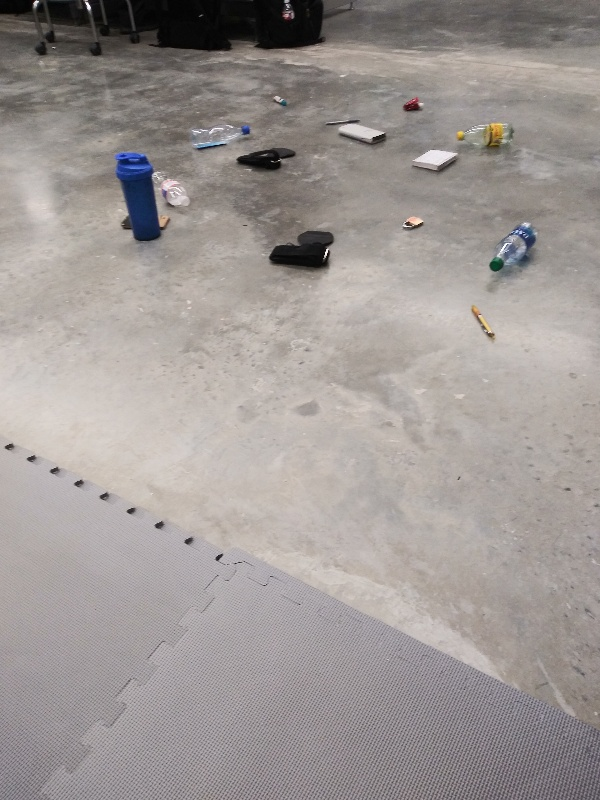bottle: (486, 216, 545, 275), (453, 119, 520, 152), (148, 168, 197, 209), (187, 121, 254, 149)
